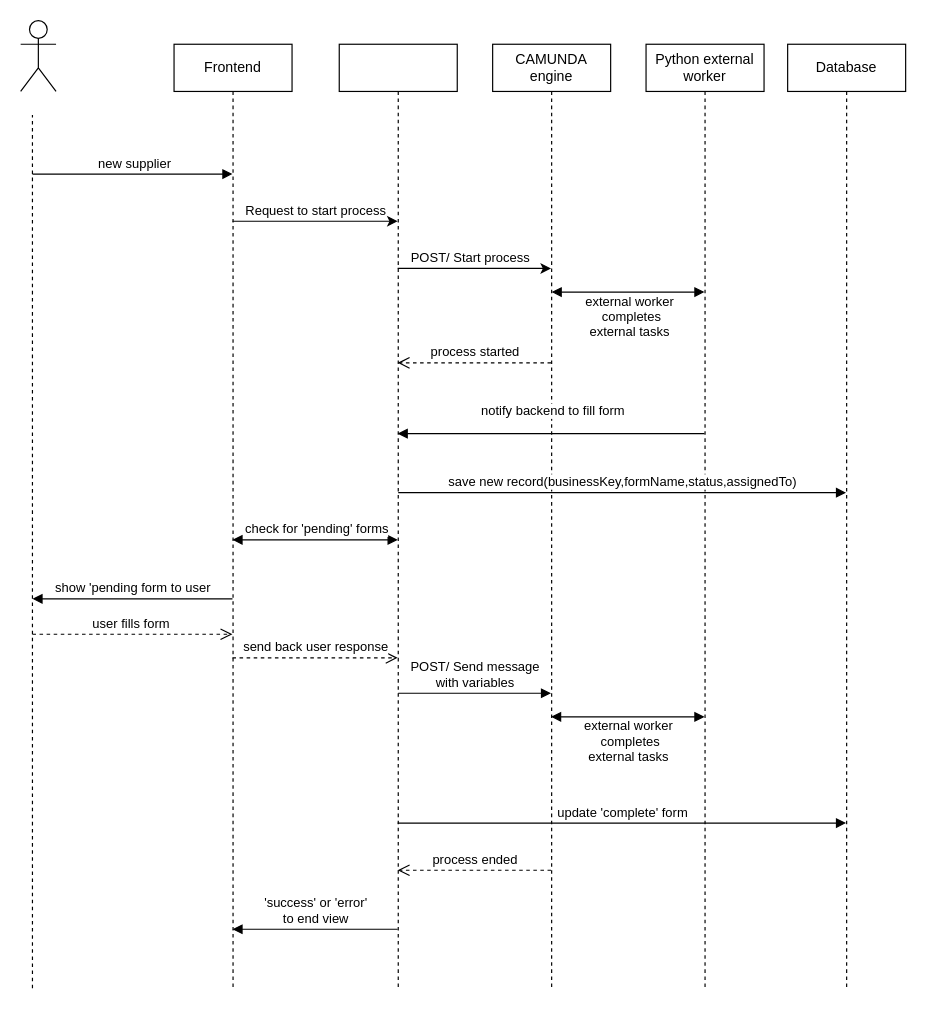
Image size: 926x1010. Some labels were removed from this diagram. The centre of each missing label's shape, as x and y in pixels:
RAMP backend: (397,515)
User: (37,55)
